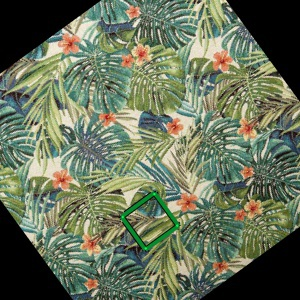square: (120, 191, 181, 252)
